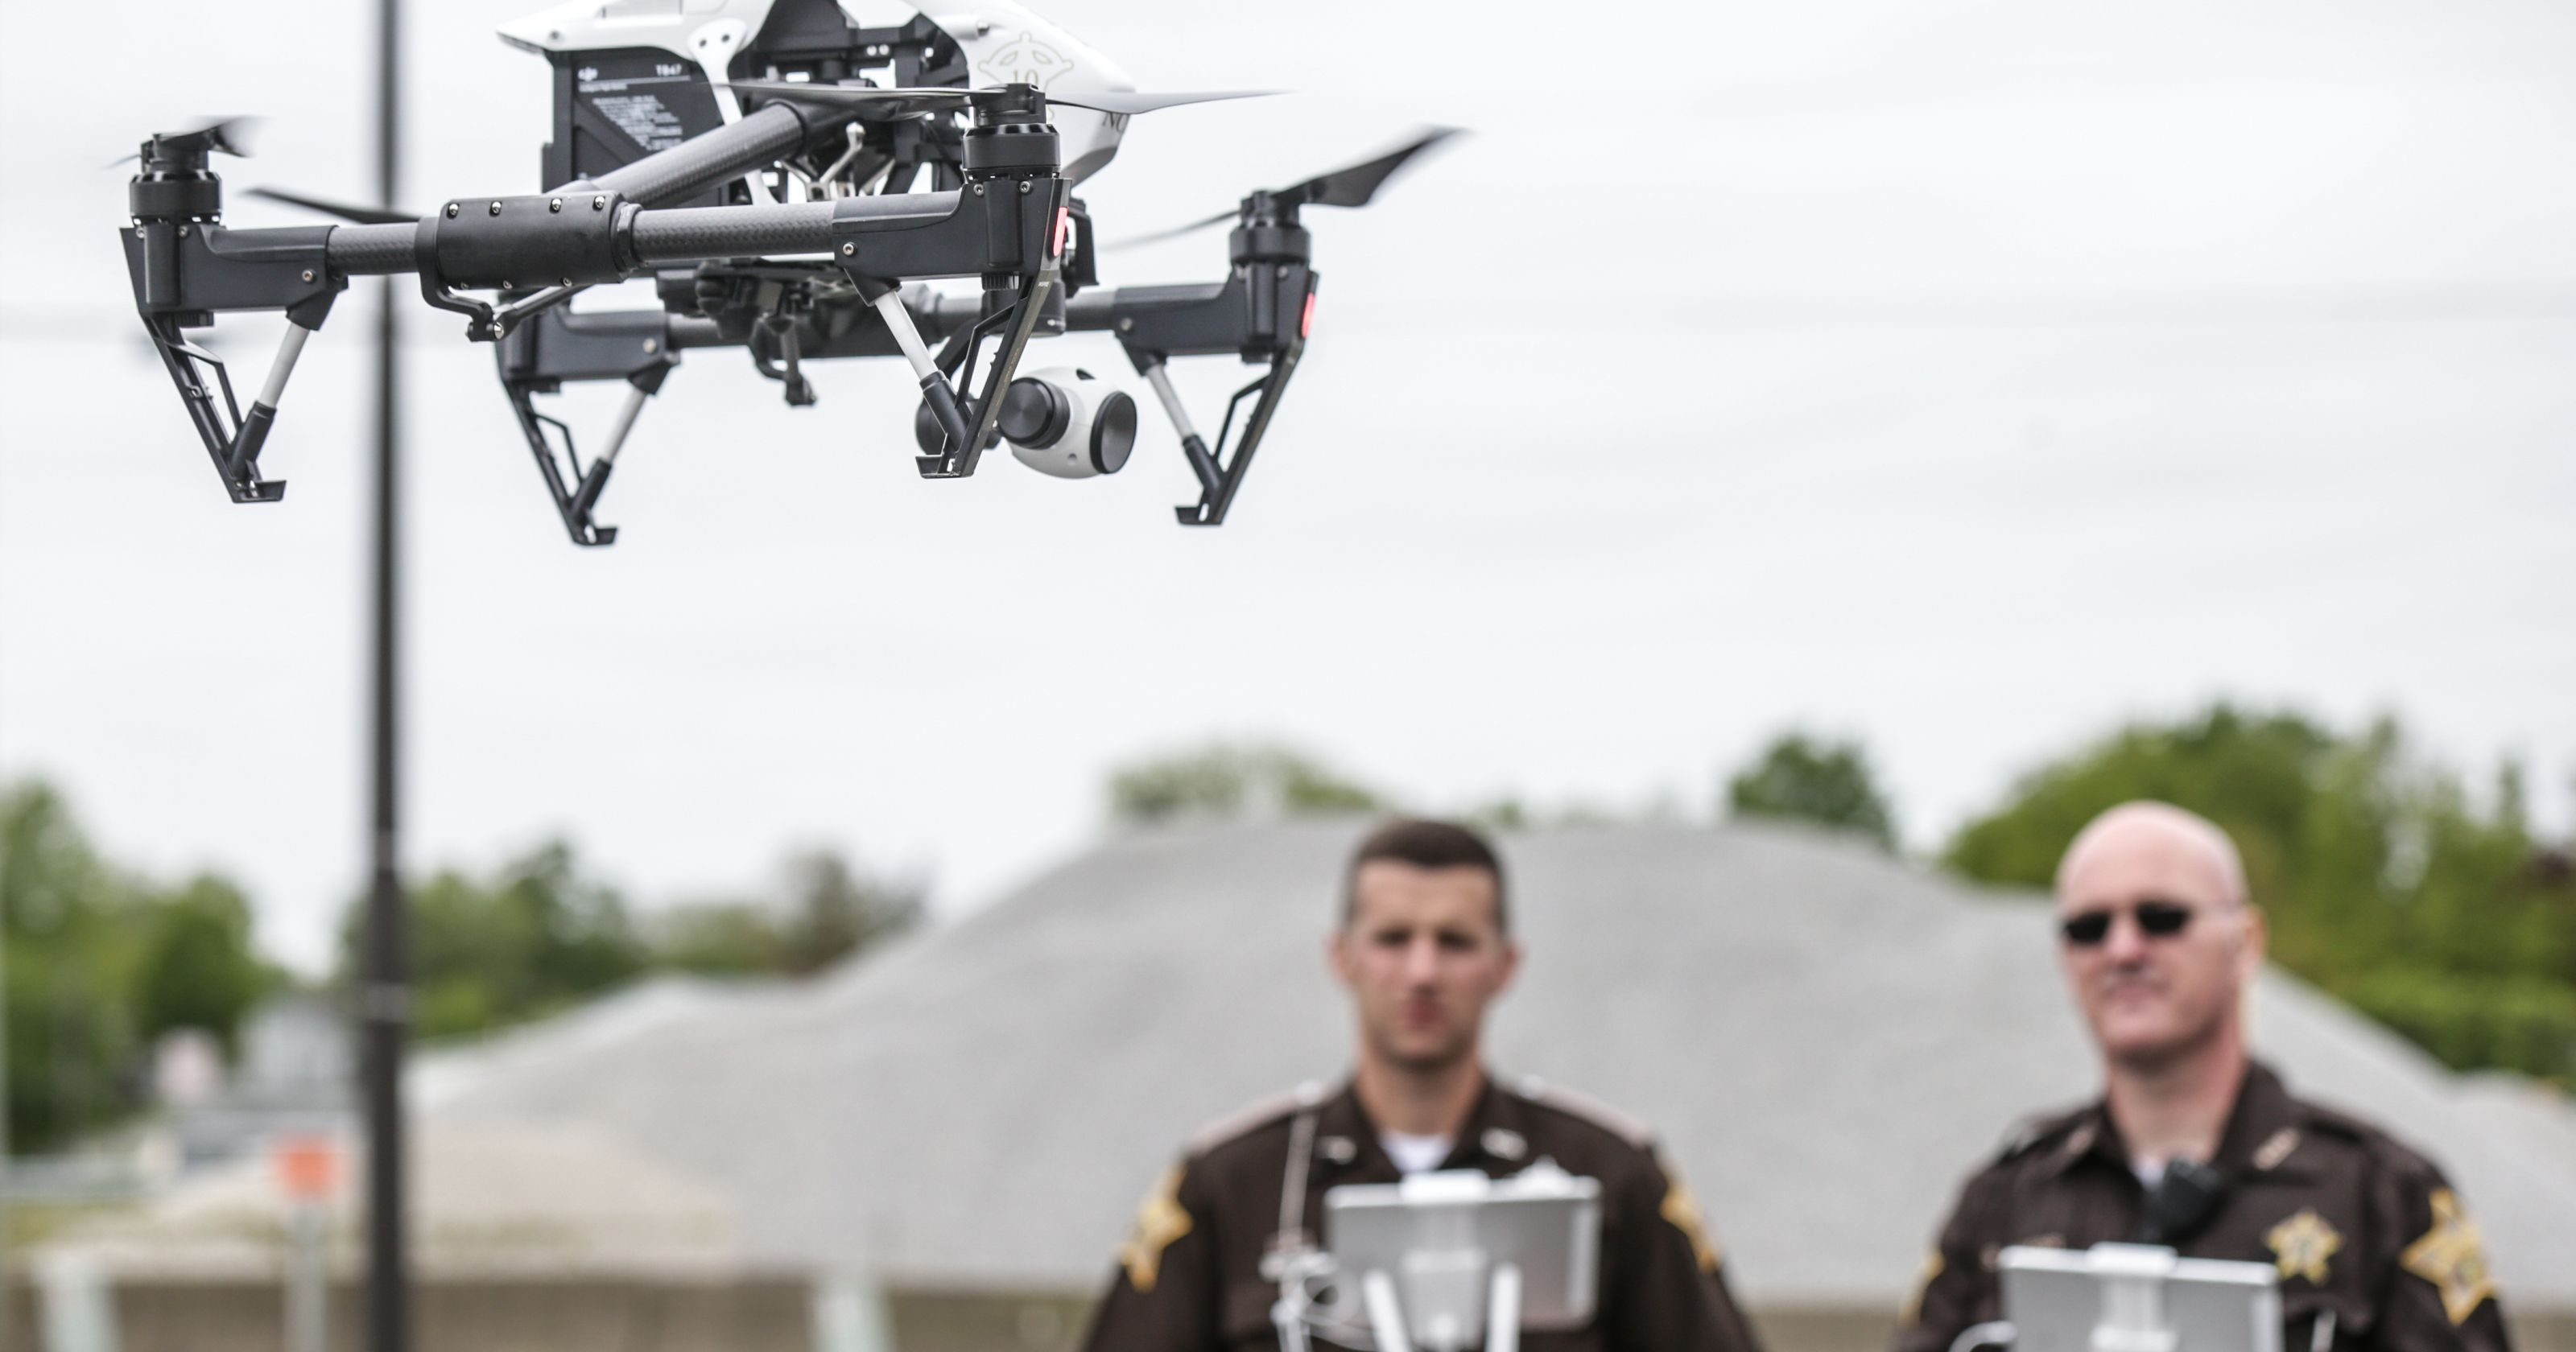drone: (78, 1, 1485, 552)
person: (1076, 821, 1791, 1352), (1883, 794, 2521, 1352)
